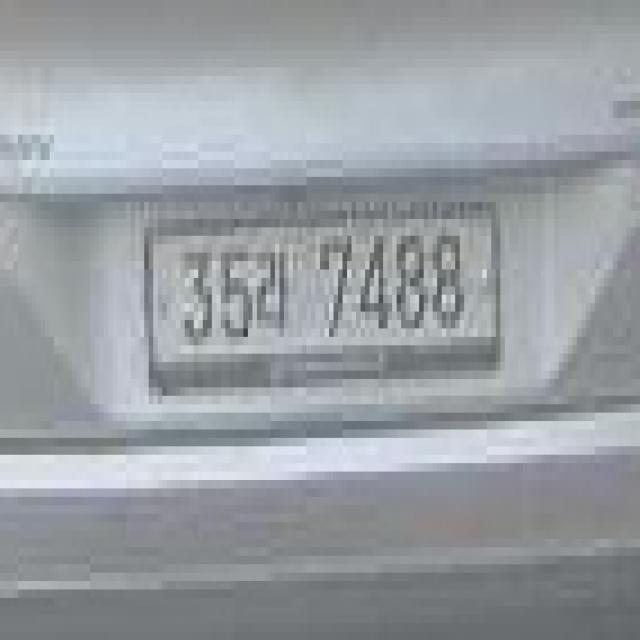3: (180, 253, 217, 345)
4: (356, 236, 392, 328)
5: (221, 253, 252, 345)
7: (316, 227, 352, 337)
8: (392, 227, 428, 337), (433, 227, 464, 337)
la: (252, 236, 293, 337)
license_plate: (140, 194, 509, 387)
